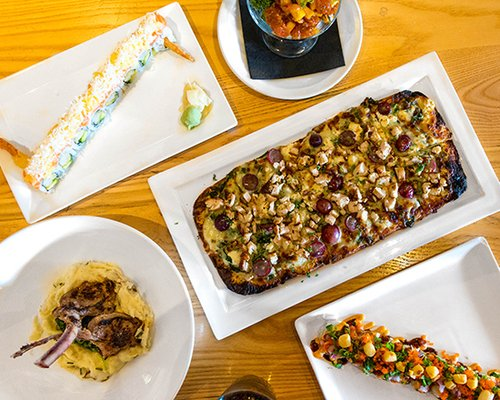sushi: (244, 0, 341, 58)
